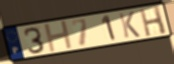1: (100, 14, 117, 42)
3: (24, 26, 47, 55)
7: (70, 18, 90, 48)
H: (43, 19, 75, 54), (138, 4, 169, 38)
K: (117, 11, 142, 39)
